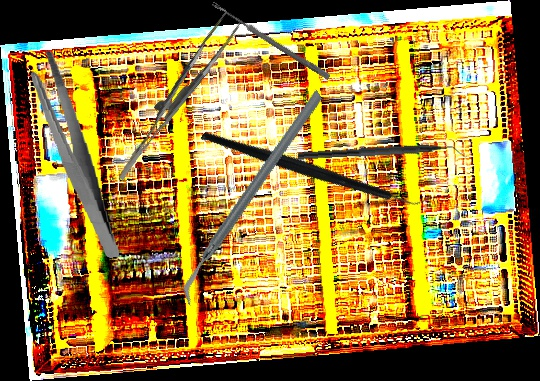Chopper: (127, 88, 379, 307), (199, 59, 435, 276), (297, 140, 468, 171)
Dressing Forceps: (29, 46, 120, 264)
Surgical Spoon: (210, 0, 332, 81)
Tissue Forceps: (93, 10, 256, 181)
